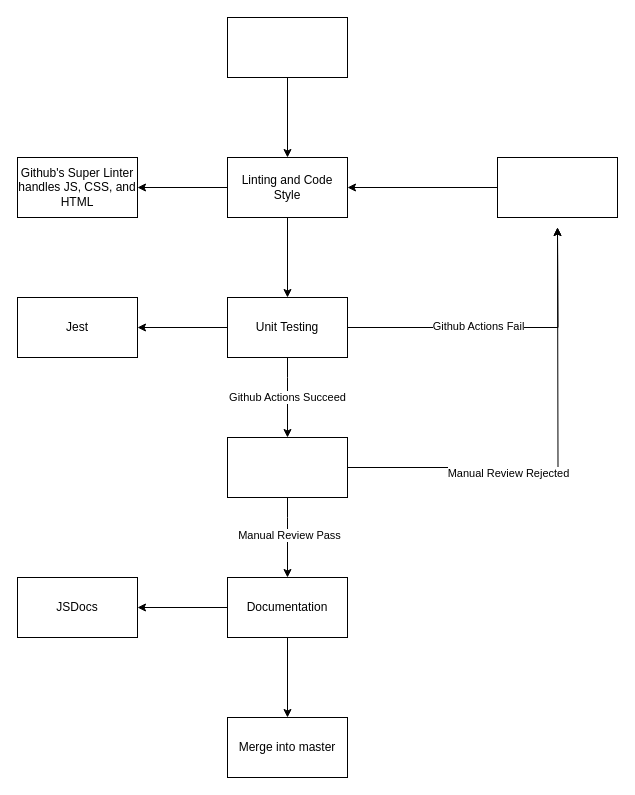
This 635x795 diagram has some shape labels left out. Here are the shapes that lost their labels. From the top down, the centre of each, then its label:
At pixel 287 47: "PR is made".
At pixel 557 187: "PR is updated".
At pixel 287 467: "Manual Review".
